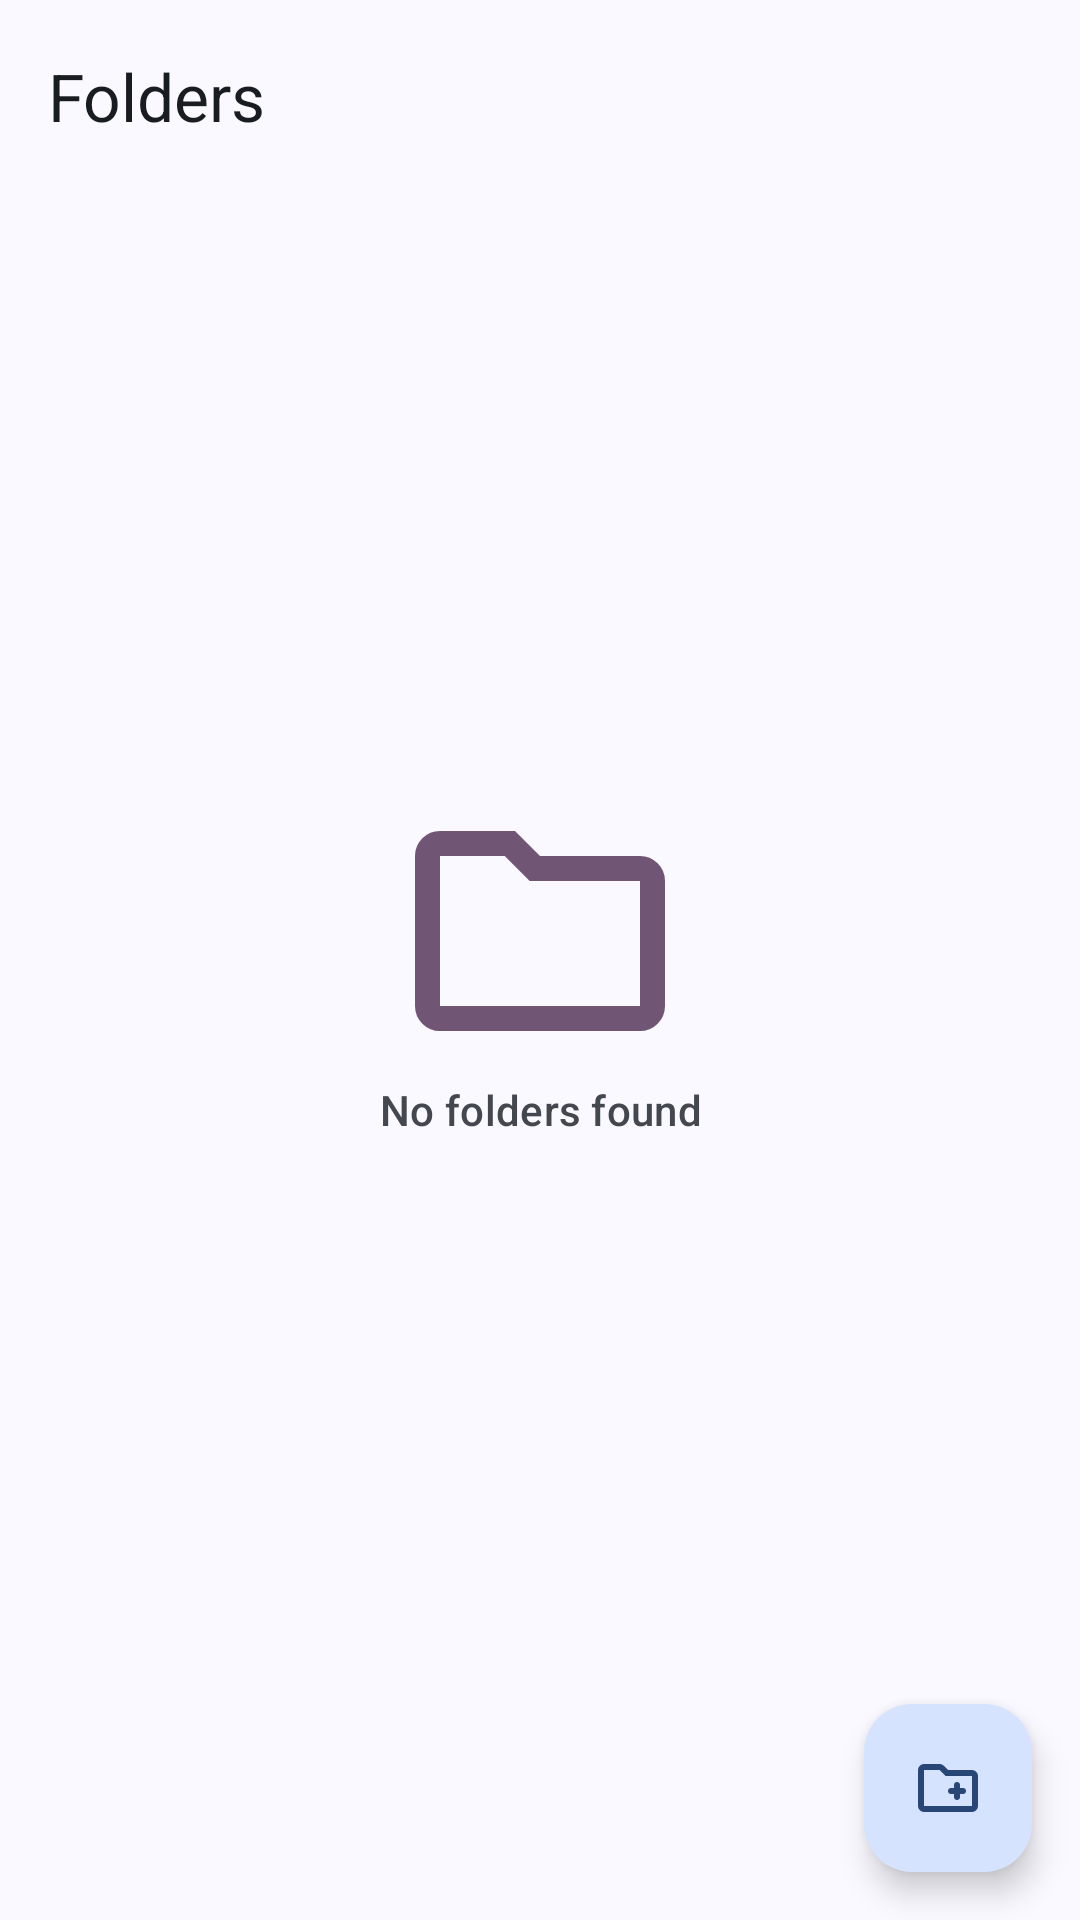

Icons on this 1080×1920 Android screen, each with the point to tap as point (x, y):
add folder: point (948, 1788)
